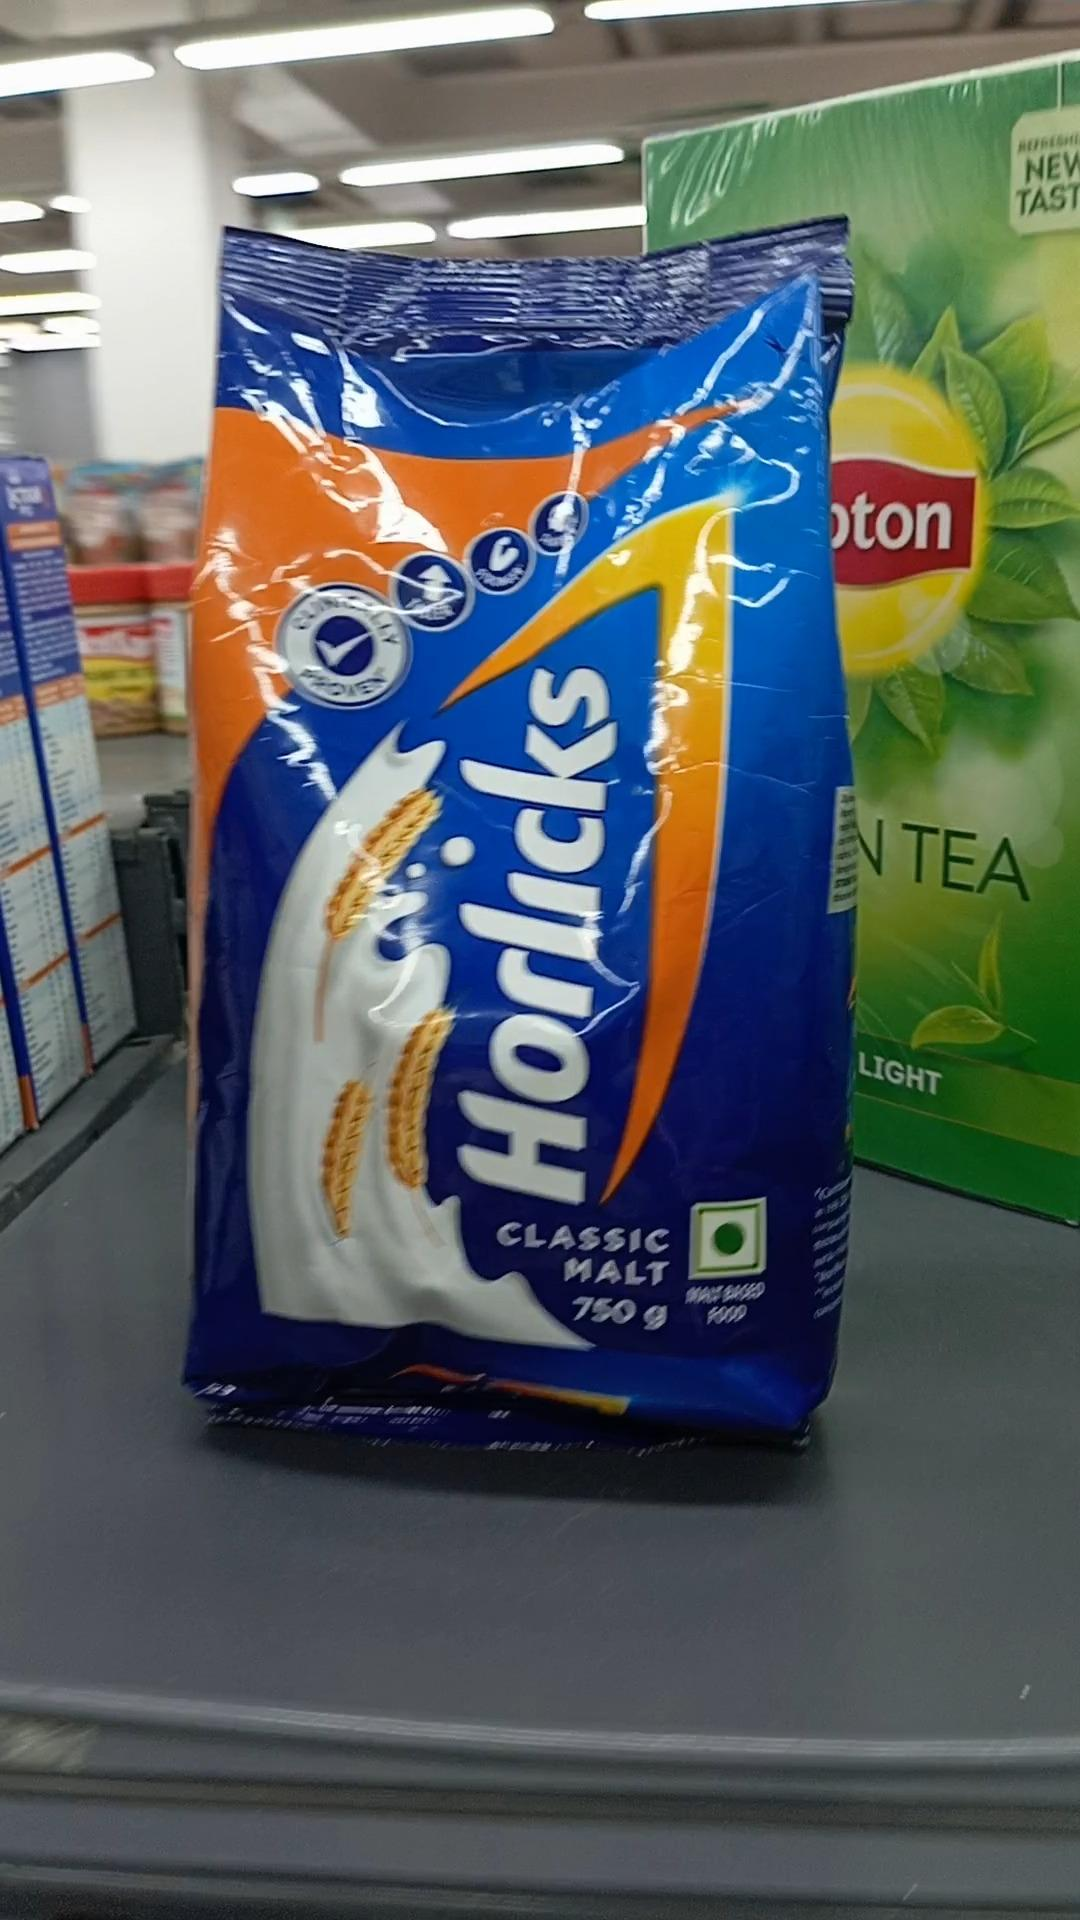HORLICK_CLASSIC_MALT_750_G_POUCH: (170, 206, 853, 1431)
